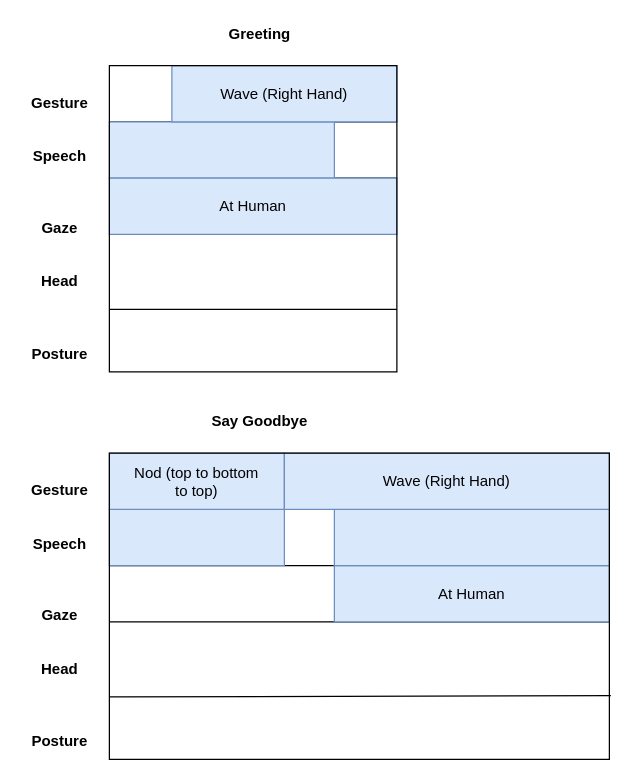
This 634x781 diagram has some shape labels left out. The centre of each missing label's shape, as x and y in pixels:
"Goodbye" belongs at point 471,537.
"Hey, how can I help you?" belongs at point 221,149.
"It was nice meeting you" belongs at point 196,537.
